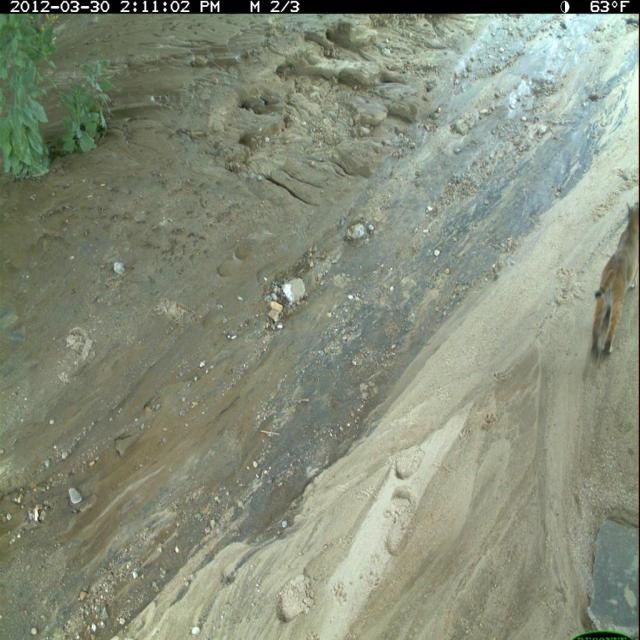bobcat: (588, 200, 640, 369)
